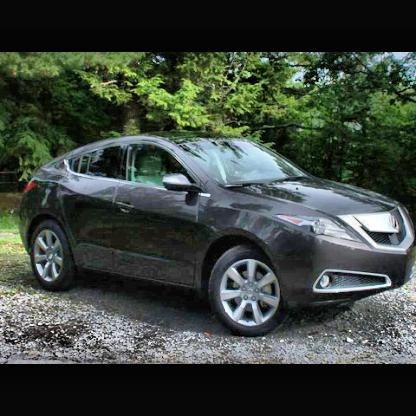Acura ZDX Hatchback 2012: (19, 133, 415, 339)
